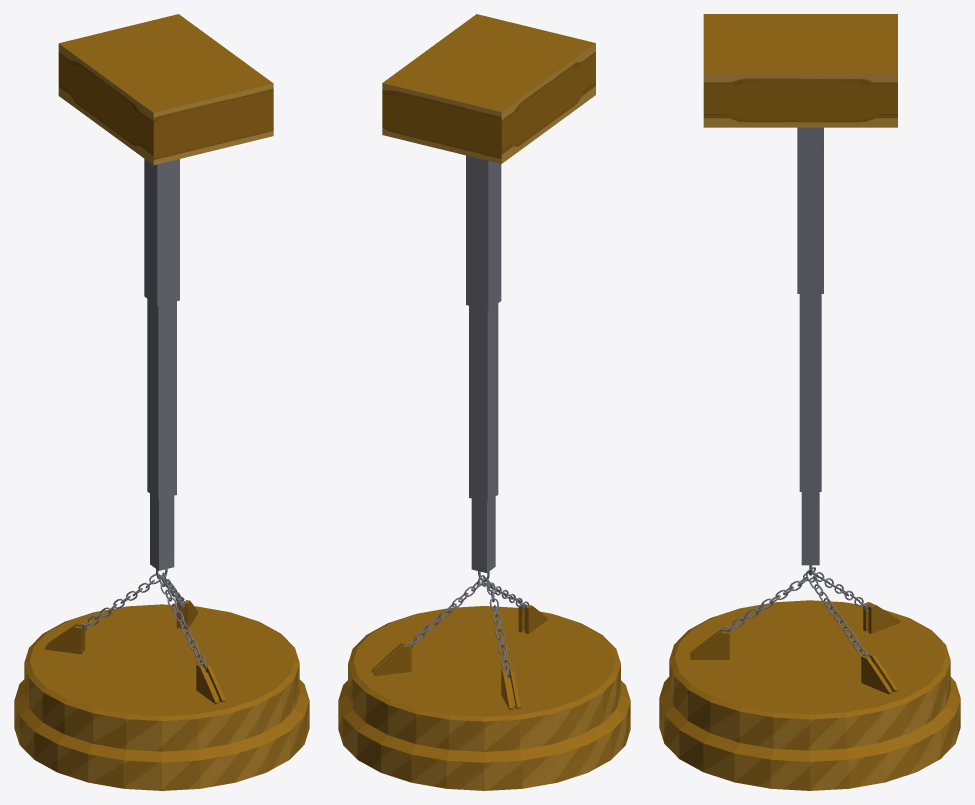
File: mdlMagnetLong.fbx
3 views of the same model, side by side, from view 1: azimuth 30°, elevation 25°; view 2: azimuth 150°, elevation 25°; view 3: azimuth 270°, elevation 25° (orthographic). The views are drawn at different scales.
Parts seen in each view (by area): view 1: Magnet.001; view 2: Magnet.001; view 3: Magnet.001.
Boxes of the visible parts, box(x1,y1,x2,y2) form: Magnet.001: box(14, 14, 309, 790); Magnet.001: box(338, 14, 630, 790); Magnet.001: box(659, 14, 960, 790).
Bounding box in the file's own units: 10.19 × 25.48 × 10.19.
1 material, 1 textured.
